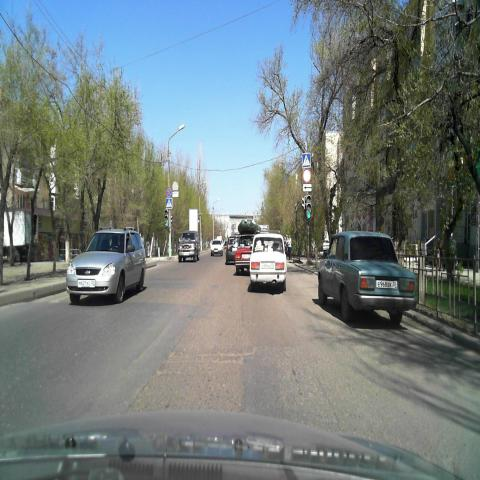3_2: (303, 169, 311, 182)
